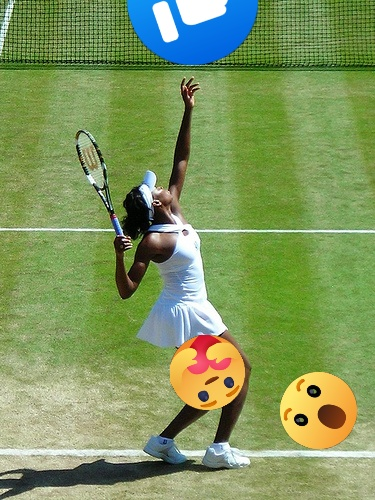care: (170, 335, 245, 410)
like: (127, 0, 258, 65)
wow: (280, 372, 357, 449)
